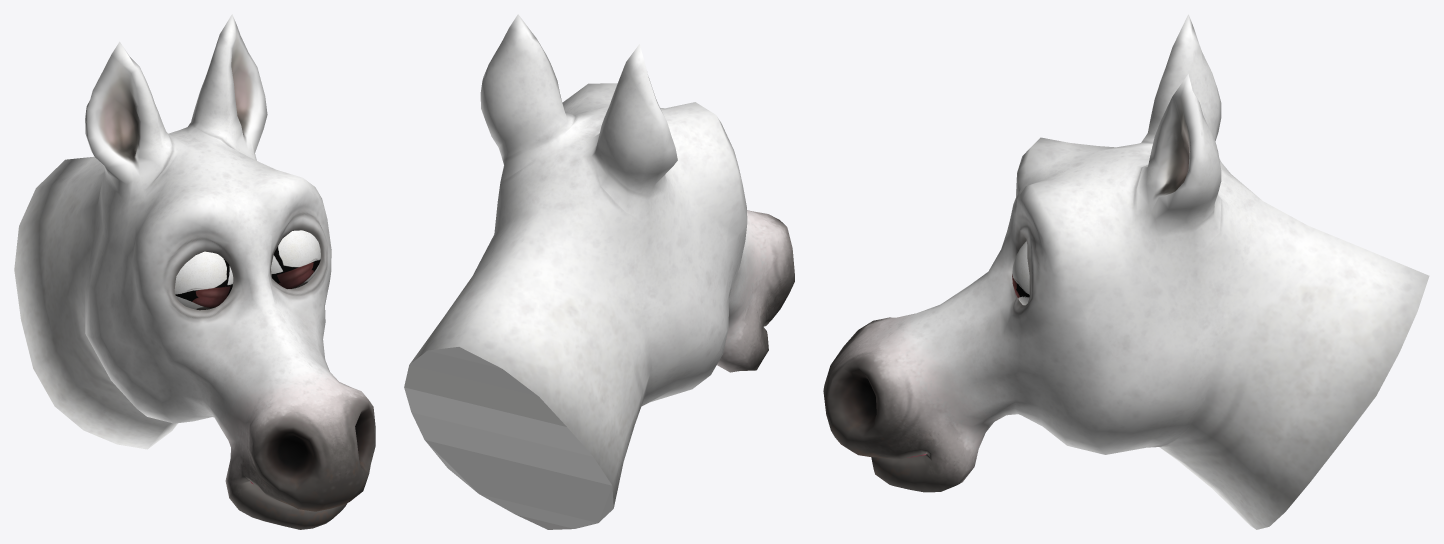
The model's file is horse_default.obj.
3 renders of one model, left to right at view 1: azimuth 30°, elevation 25°; view 2: azimuth 150°, elevation 25°; view 3: azimuth 270°, elevation 25°, orthographic. The views are drawn at different scales.
Parts seen in each view (by area): view 1: Horse_Plane.002; view 2: Horse_Plane.002; view 3: Horse_Plane.002.
Part boxes in pixels (bbox=[...]): Horse_Plane.002: bbox=[14, 14, 375, 529]; Horse_Plane.002: bbox=[404, 14, 794, 529]; Horse_Plane.002: bbox=[823, 14, 1429, 529].
Bounding box in the file's own units: 0.8025 × 1.7 × 1.94.
